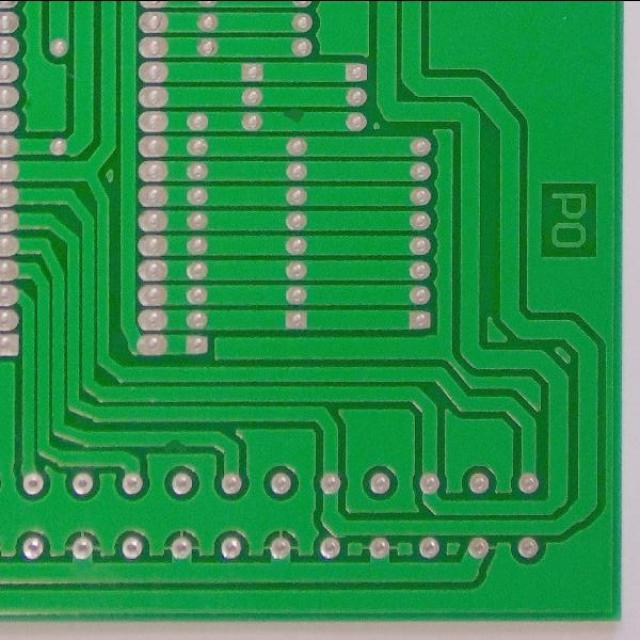mouse_bite: (278, 106, 310, 131), (158, 429, 190, 452)
